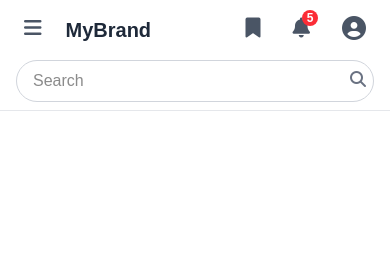
Test case: Header Component › toggles mobile side menu when hamburger button is clicked
Expected: the text "Home" is not shown
Note: Click the hamburger button (aria-label "Open menu").
Click the button named "Open menu": coordinates (33, 30) [16,10,50,50]
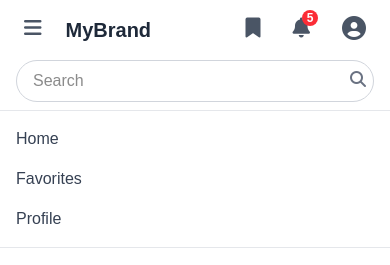
Result: the link "Home" is shown at [16,130,59,147]
Result: the link "Favorites" is shown at [16,170,82,187]
Result: the link "Profile" is shown at [16,210,61,227]
Note: Clicking again should close the menu.
Click the button named "Open menu": coordinates (33, 30) [16,10,50,50]
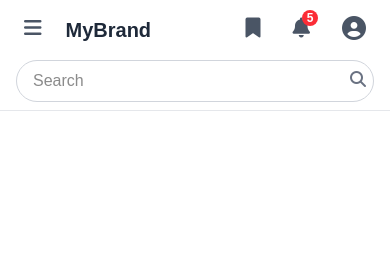
Result: the link "Home" is gone
